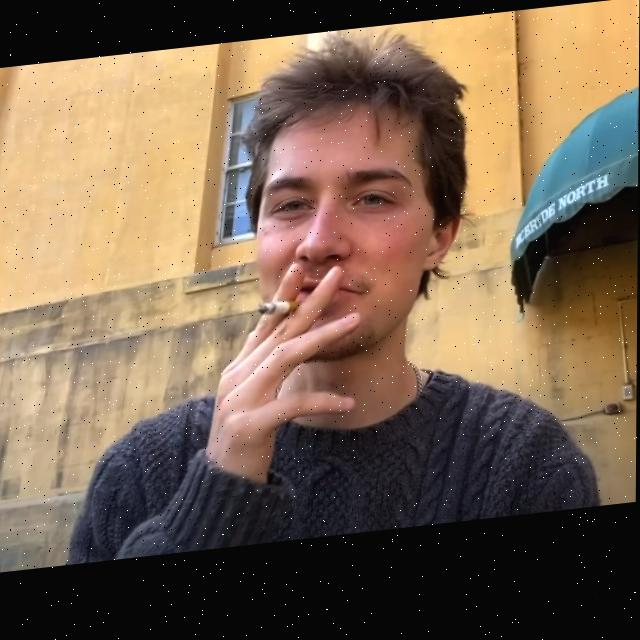cigarette: (258, 307, 302, 322)
